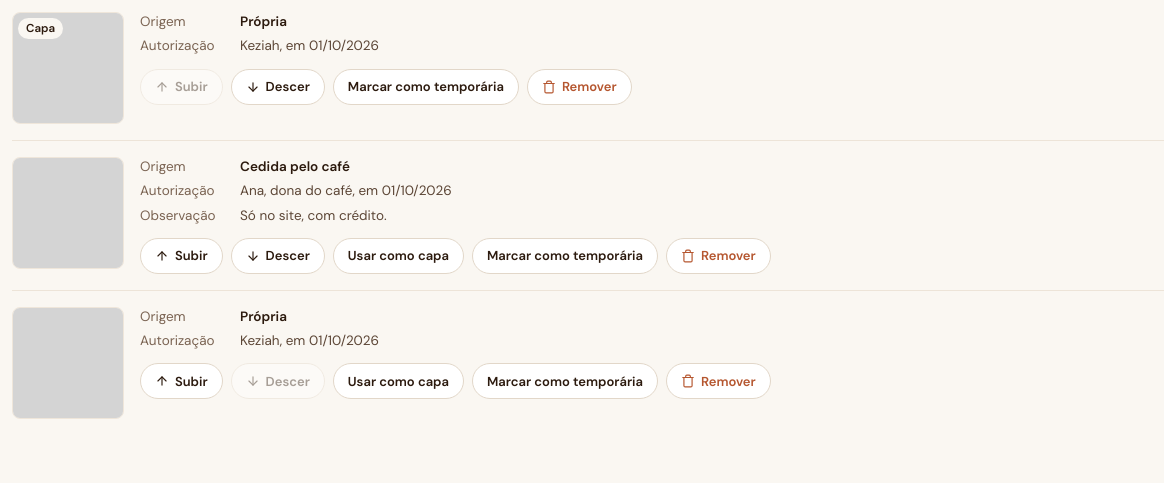
ListaDeFotos › erro do servidor ao reordenar aparece e nada é anunciado
Click the button with aria-label "Subir foto 2 de 3": (181, 256) 140,238 -> 223,274
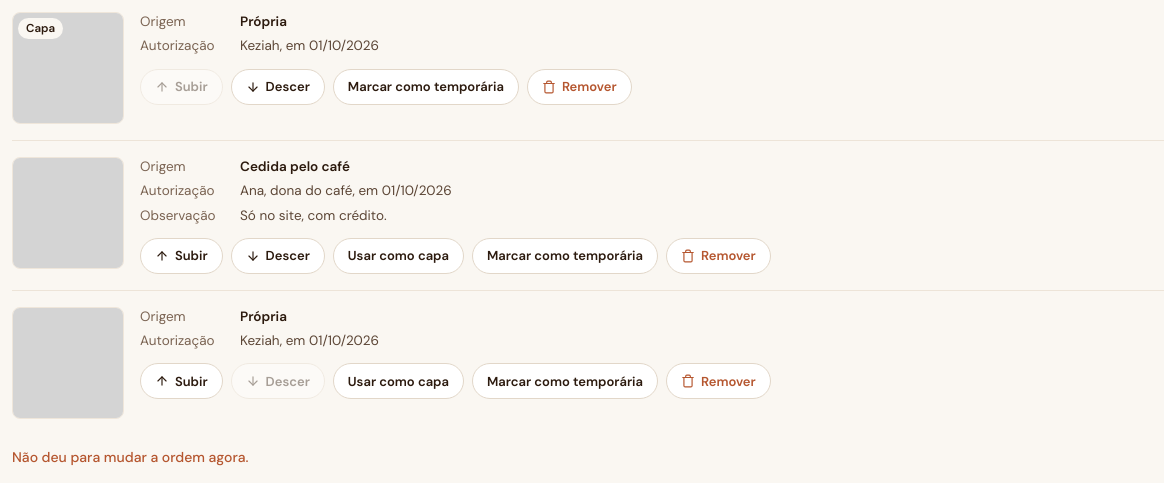
Check: the message reads "Não deu para mudar a ordem agora.", box 12,448 -> 249,466
